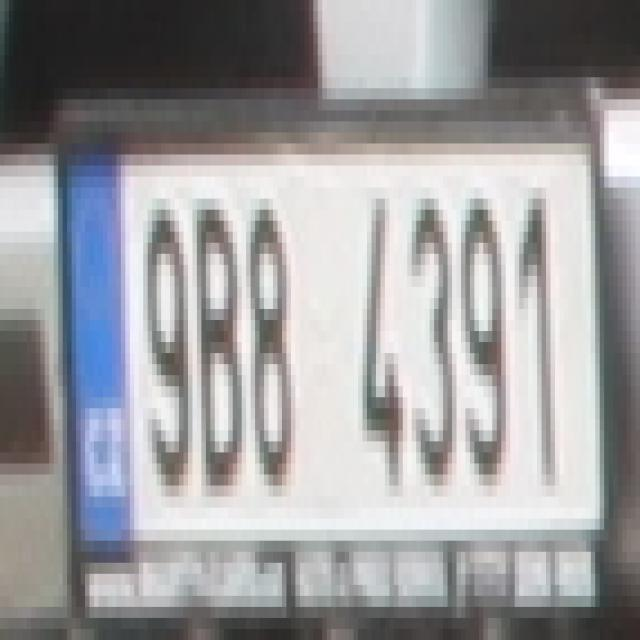1: (506, 165, 555, 486)
3: (408, 198, 460, 486)
4: (353, 166, 402, 474)
8: (247, 188, 296, 508)
9: (134, 188, 192, 486), (457, 188, 510, 474)
B: (188, 166, 242, 474)
